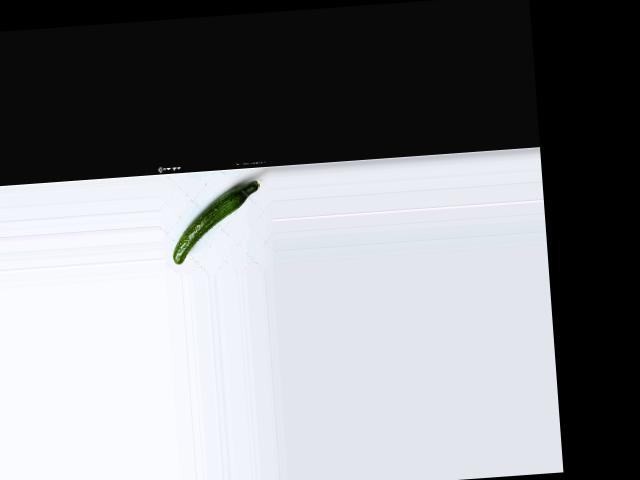cucumber: (169, 180, 265, 264)
